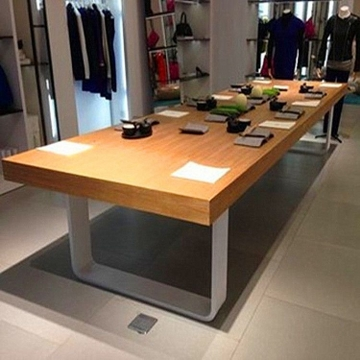meja: (2, 79, 348, 322)
